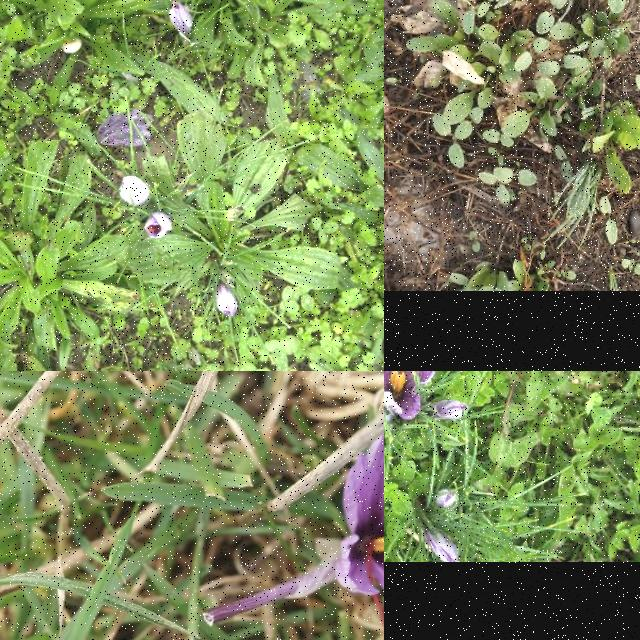flower: (337, 386, 384, 640), (384, 371, 435, 420), (424, 532, 460, 562), (121, 178, 149, 206), (170, 1, 193, 34), (146, 214, 174, 238), (218, 286, 238, 318), (436, 400, 468, 420), (436, 488, 459, 512), (384, 407, 393, 427)
